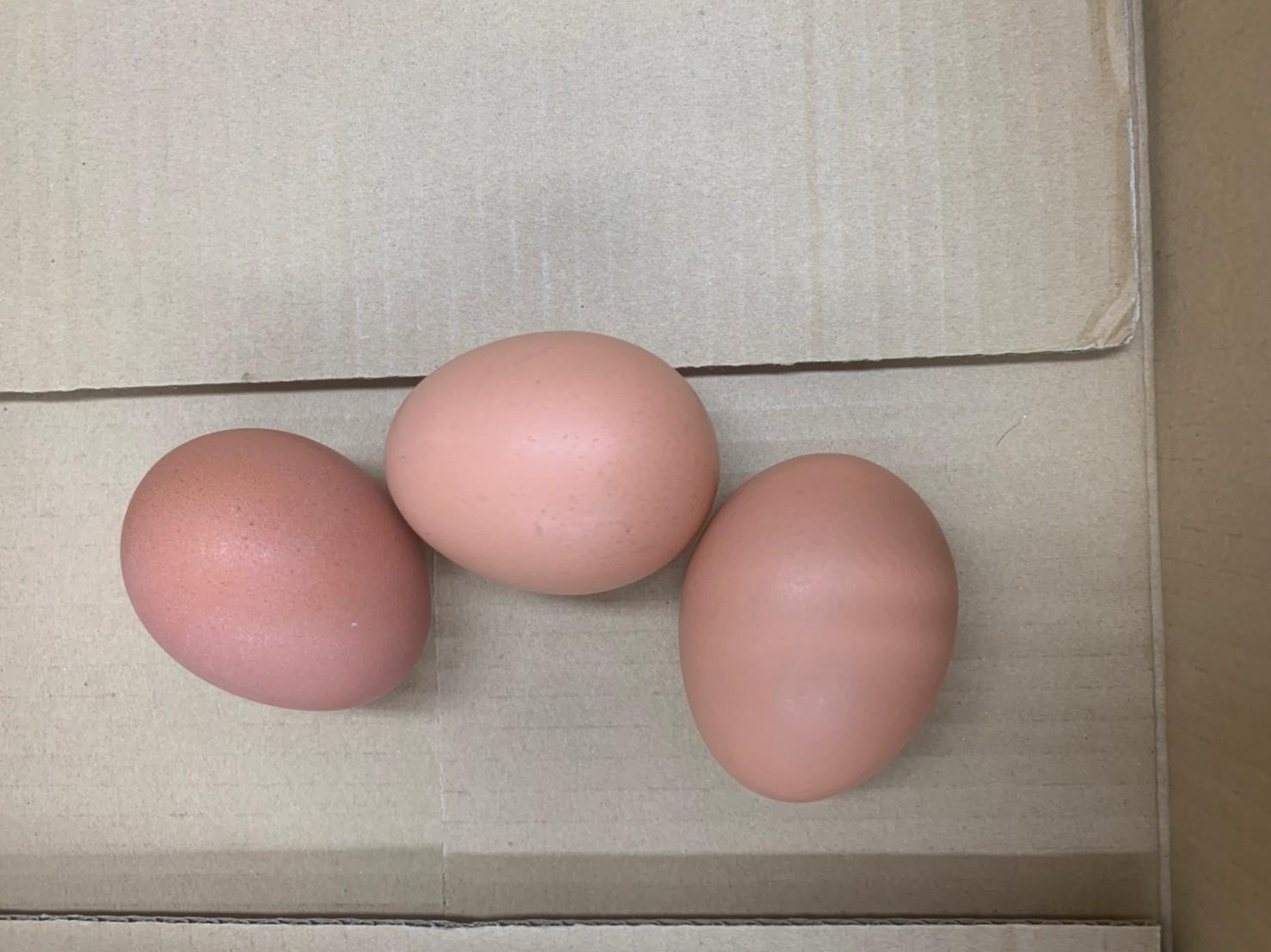egg: (669, 442, 976, 811), (110, 425, 439, 715), (383, 326, 726, 595)
